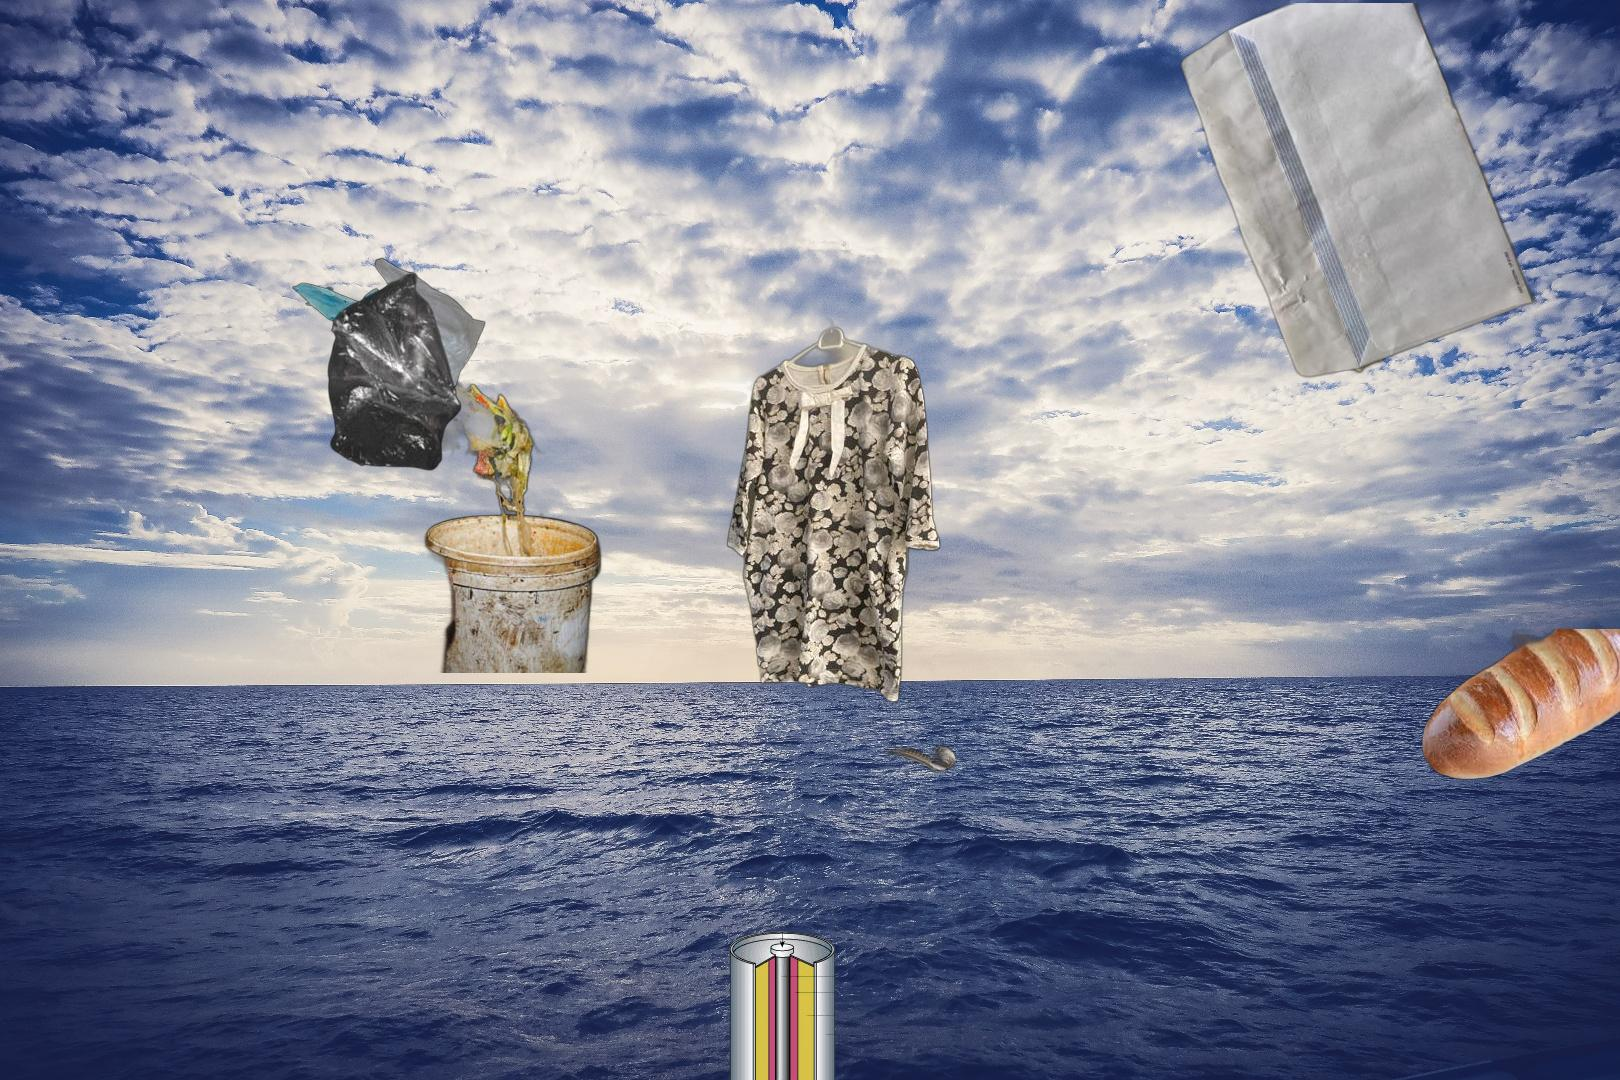battery: (708, 909, 838, 1080)
biological: (395, 341, 606, 673), (1421, 629, 1620, 782)
clothes: (723, 297, 959, 777)
metal-cans: (1297, 189, 1461, 378)
paper: (1176, 2, 1540, 381)
plastic-bag: (290, 257, 487, 472)
